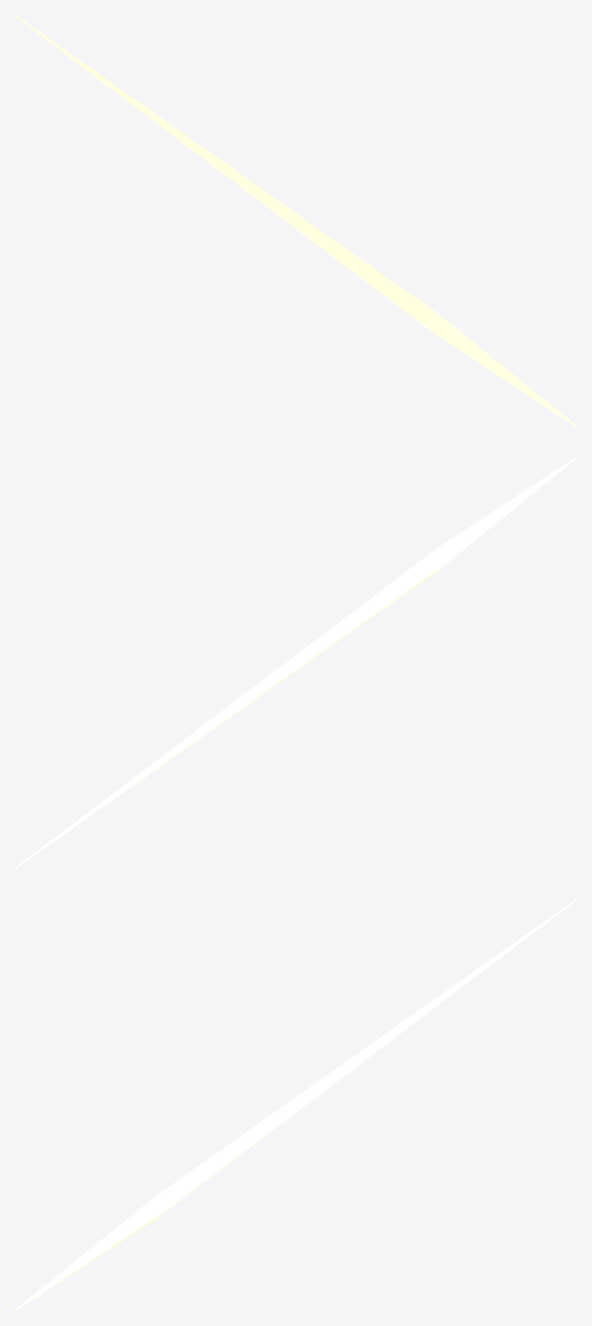
File: tracer.glb
The picture shows the model from 3 angles, top to bottom: view 1: azimuth 30°, elevation 25°; view 2: azimuth 150°, elevation 25°; view 3: azimuth 330°, elevation 25°; orthographic projection.
Visible parts, largest first — view 1: Tracer_Player; view 2: Tracer_Player; view 3: Tracer_Player.
Boxes of the visible parts, left/top/right/bottom form: Tracer_Player: left=14, top=14, right=577, bottom=427; Tracer_Player: left=14, top=456, right=577, bottom=869; Tracer_Player: left=14, top=898, right=577, bottom=1311.
Bounding box in the file's own units: 0.05 × 0.05 × 2.2.
